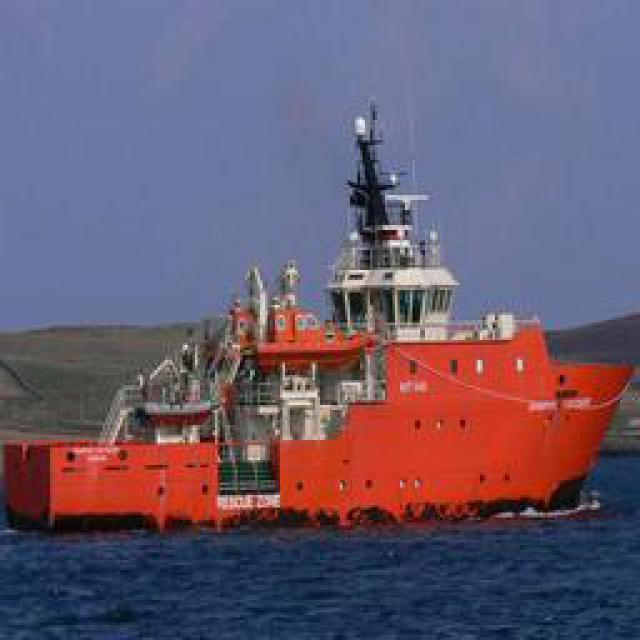Ship: (17, 76, 630, 529)
